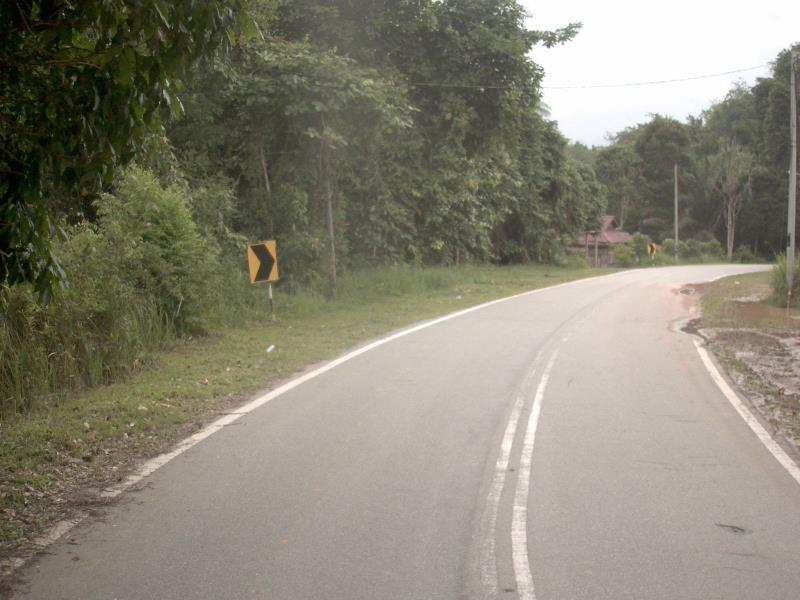traffic_sign: (239, 231, 289, 293)
